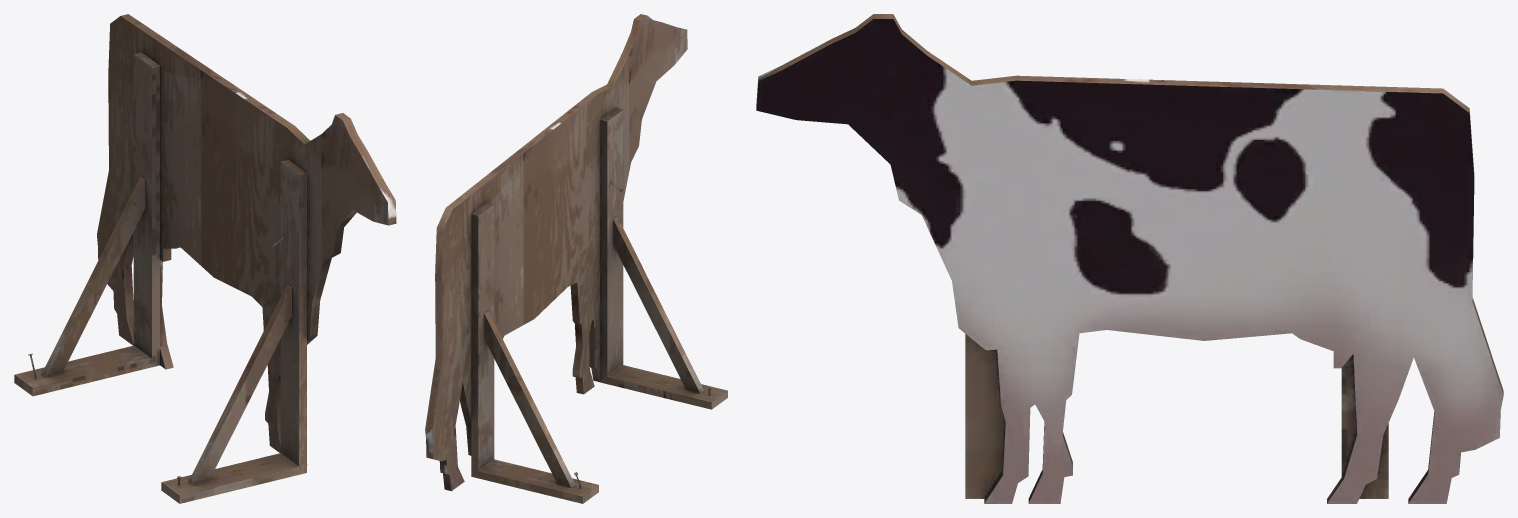
The picture shows the model from 3 angles, left to right: view 1: azimuth 30°, elevation 25°; view 2: azimuth 150°, elevation 25°; view 3: azimuth 270°, elevation 25°; orthographic projection. The views are drawn at different scales.
Visible parts, largest first — view 1: body0_model0_lod0_mesh0; view 2: body0_model0_lod0_mesh0; view 3: body0_model0_lod0_mesh0.
Part boxes in pixels (bbox=[...]): body0_model0_lod0_mesh0: bbox=[14, 14, 396, 503]; body0_model0_lod0_mesh0: bbox=[425, 14, 727, 503]; body0_model0_lod0_mesh0: bbox=[756, 14, 1503, 503].
Bounding box in the file's own units: 34.01 × 91.01 × 127.
1 material, 1 textured.
